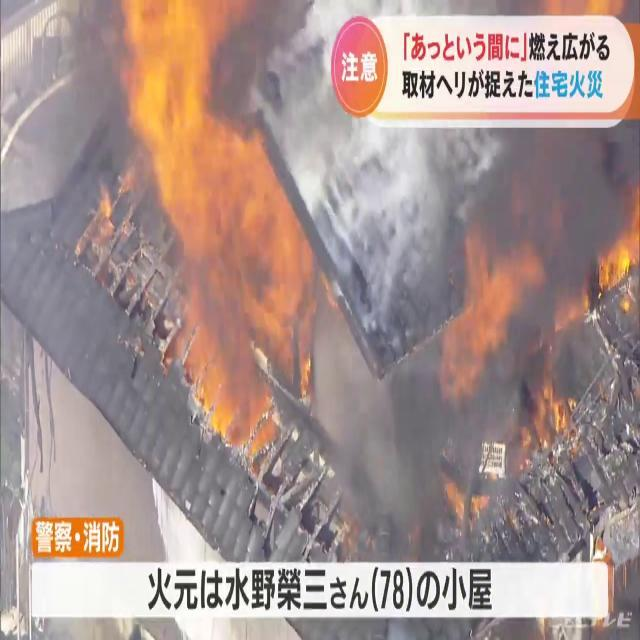Fire: (106, 0, 340, 437), (448, 223, 540, 386), (597, 175, 640, 306)
Smoke: (26, 0, 624, 551)
